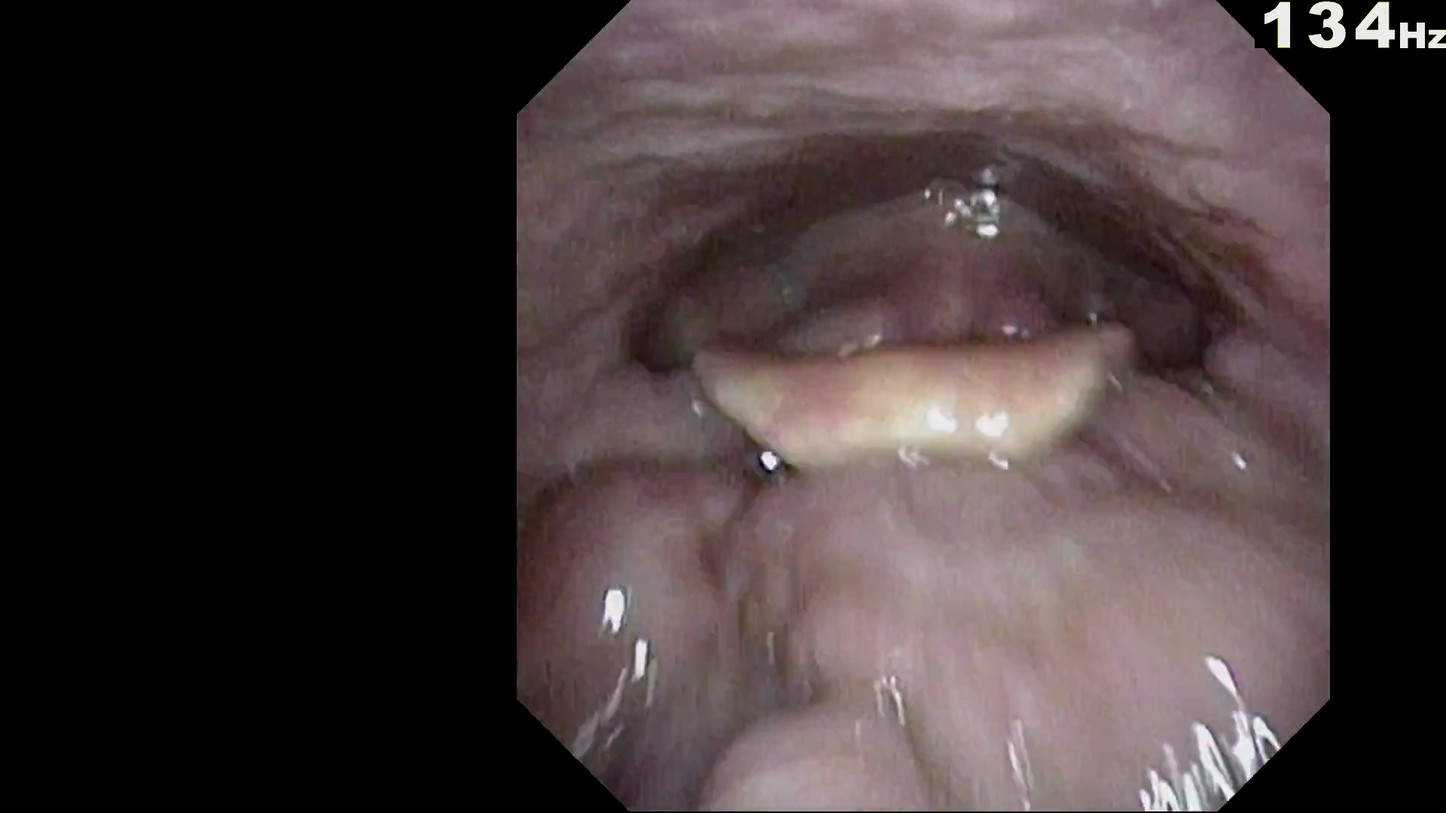epiglottis: (679, 322, 1145, 441)
